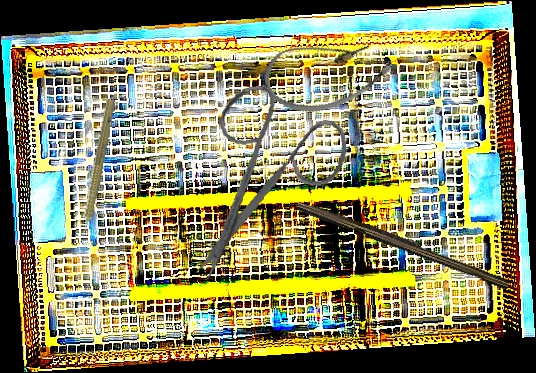Cannula: (257, 17, 400, 127)
Handpiece: (73, 97, 118, 244)
Iris Scissors: (170, 75, 363, 284)
Scalpel Handle: (294, 197, 513, 290)
